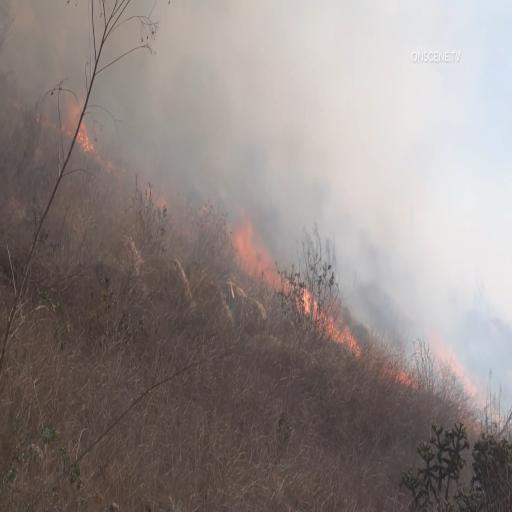fire: (238, 218, 273, 276)
smoke: (172, 29, 387, 209)
